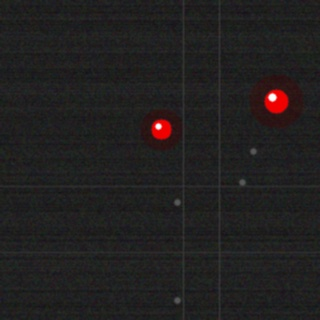red_fault: (262, 87, 290, 115), (149, 117, 173, 141)
